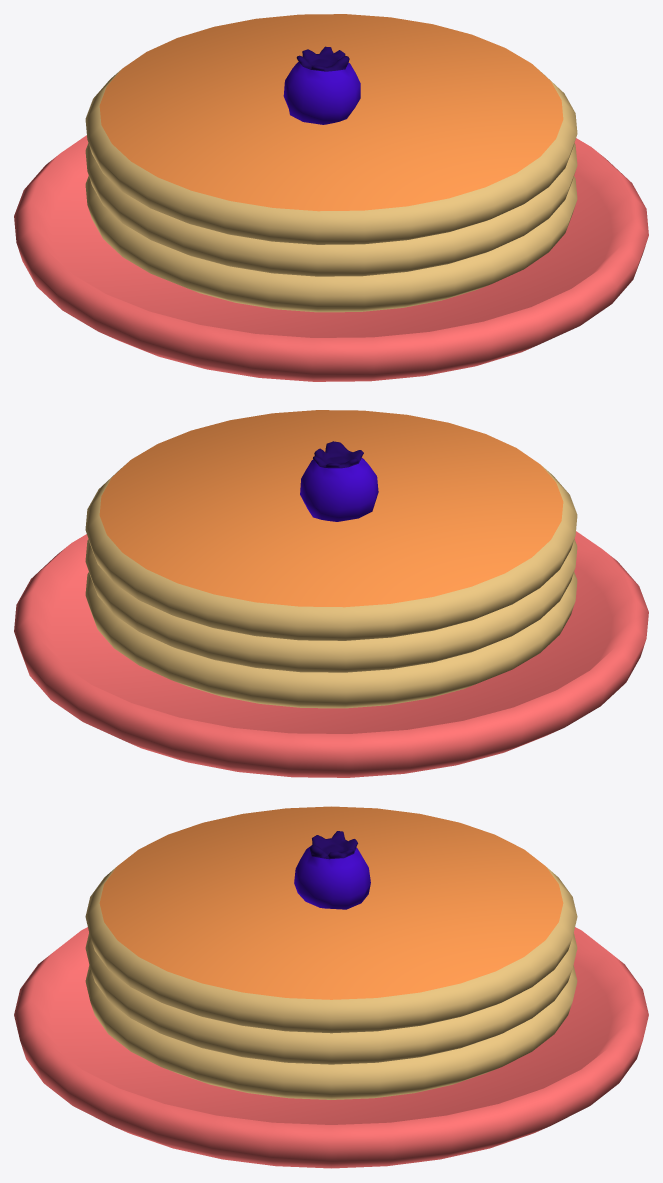
File: Pancake.fbx
The picture shows the model from 3 angles, top to bottom: view 1: azimuth 30°, elevation 25°; view 2: azimuth 150°, elevation 25°; view 3: azimuth 270°, elevation 25°; orthographic projection.
Visible parts, largest first — view 1: Sphere.002, Sphere.009, Blueberries.002; view 2: Sphere.002, Sphere.009, Blueberries.002; view 3: Sphere.002, Sphere.009, Blueberries.002.
Part boxes in pixels (<box>): Sphere.002: <box>85,14,577,312</box>; Sphere.009: <box>14,135,648,381</box>; Blueberries.002: <box>283,46,360,124</box>; Sphere.002: <box>85,410,577,708</box>; Sphere.009: <box>14,531,648,777</box>; Blueberries.002: <box>300,441,378,521</box>; Sphere.002: <box>85,806,577,1099</box>; Sphere.009: <box>14,927,648,1168</box>; Blueberries.002: <box>294,831,370,909</box>.
Size of the model in its own units: 236 by 85.47 by 240.
